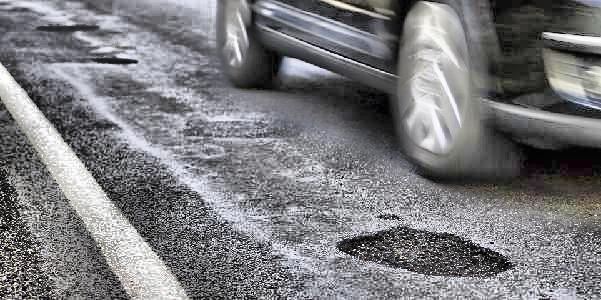pothole: (334, 226, 515, 281), (35, 22, 98, 34), (94, 53, 143, 67)
